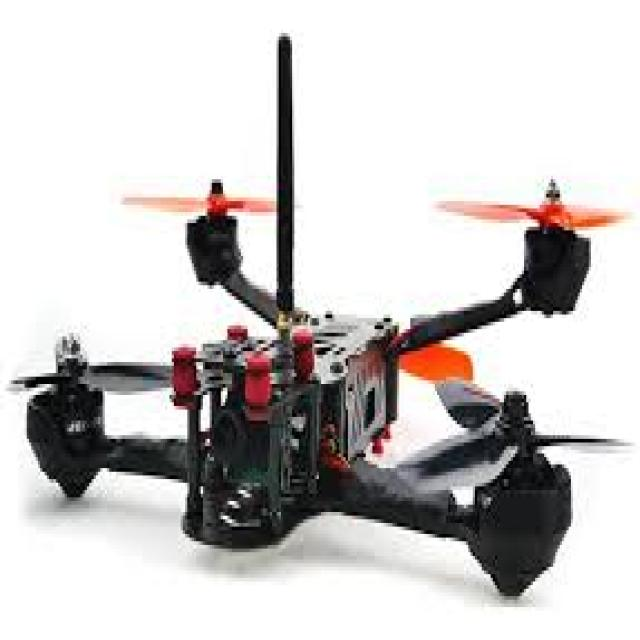drone: (0, 158, 640, 622)
